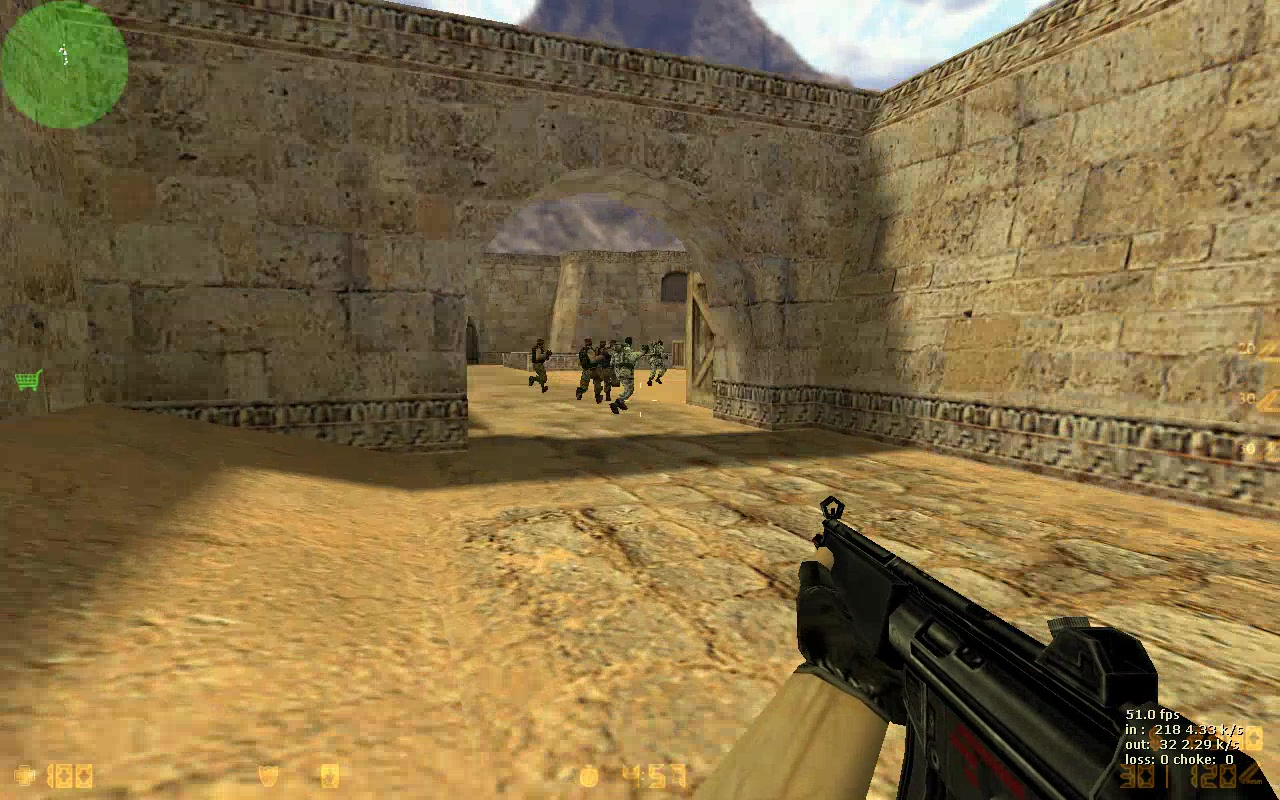terr1: (574, 335, 600, 404), (523, 336, 555, 392)
terr2: (608, 337, 648, 414), (648, 337, 670, 386)
